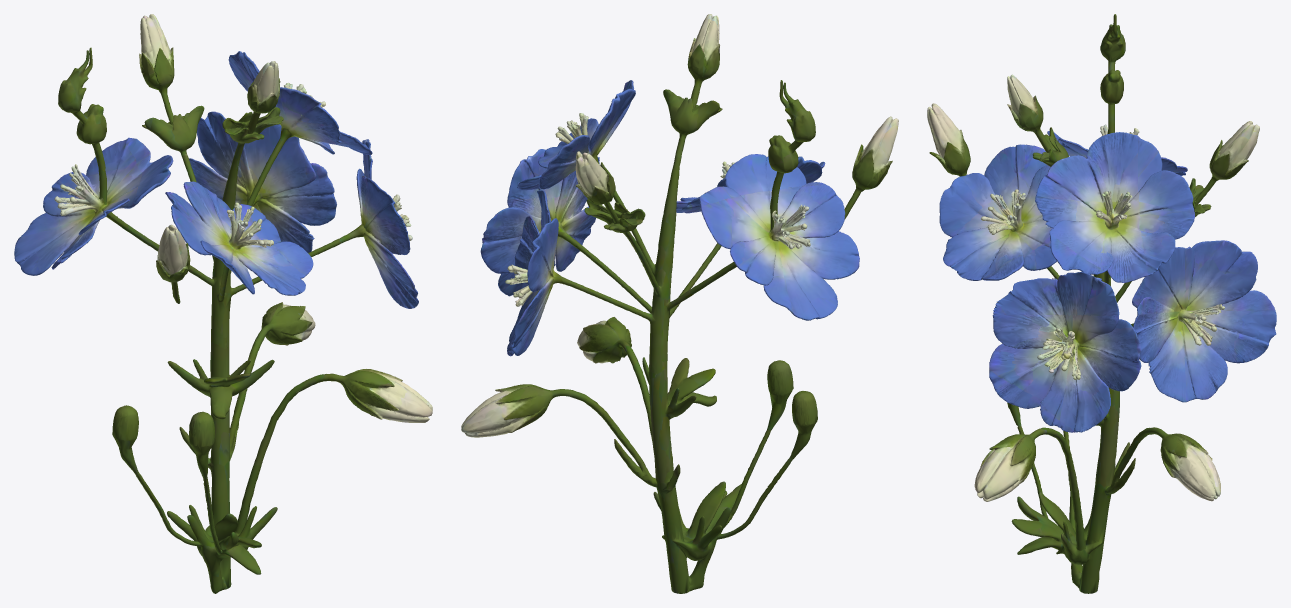
File: YinLianHua.glb
3 views of the same model, side by side, from view 1: azimuth 30°, elevation 25°; view 2: azimuth 150°, elevation 25°; view 3: azimuth 270°, elevation 25° (orthographic). The views are drawn at different scales.
Visible parts, largest first — view 1: tripo_node_f2acfd17-816c-43fb-95e9-d3edde0a1afe; view 2: tripo_node_f2acfd17-816c-43fb-95e9-d3edde0a1afe; view 3: tripo_node_f2acfd17-816c-43fb-95e9-d3edde0a1afe.
Boxes of the visible parts, bbox=[...] form: tripo_node_f2acfd17-816c-43fb-95e9-d3edde0a1afe: bbox=[14, 14, 432, 593]; tripo_node_f2acfd17-816c-43fb-95e9-d3edde0a1afe: bbox=[461, 14, 898, 593]; tripo_node_f2acfd17-816c-43fb-95e9-d3edde0a1afe: bbox=[927, 14, 1276, 593].
Bounding box in the file's own units: 0.651 × 0.9807 × 0.5944.
1 material, 1 textured.
